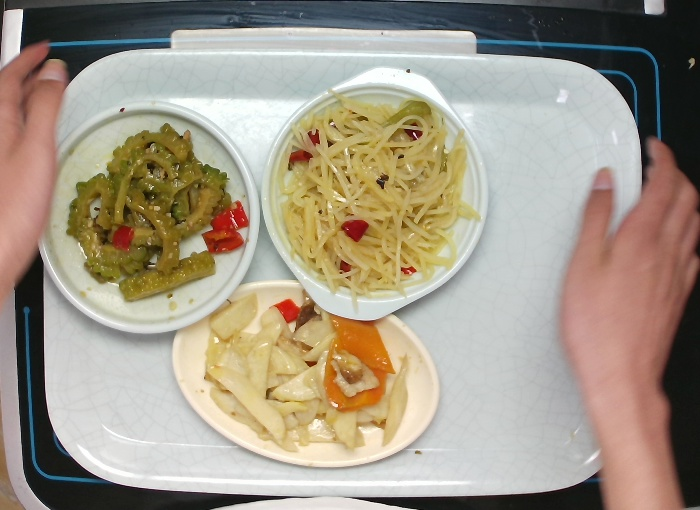JYsf-Shuang_Er_Pan: (258, 62, 490, 320)
JYsf-Tuo_Yuan_Wan: (170, 279, 442, 468)
JYsf-Xiao_Yuan_Pan: (37, 95, 259, 338)
